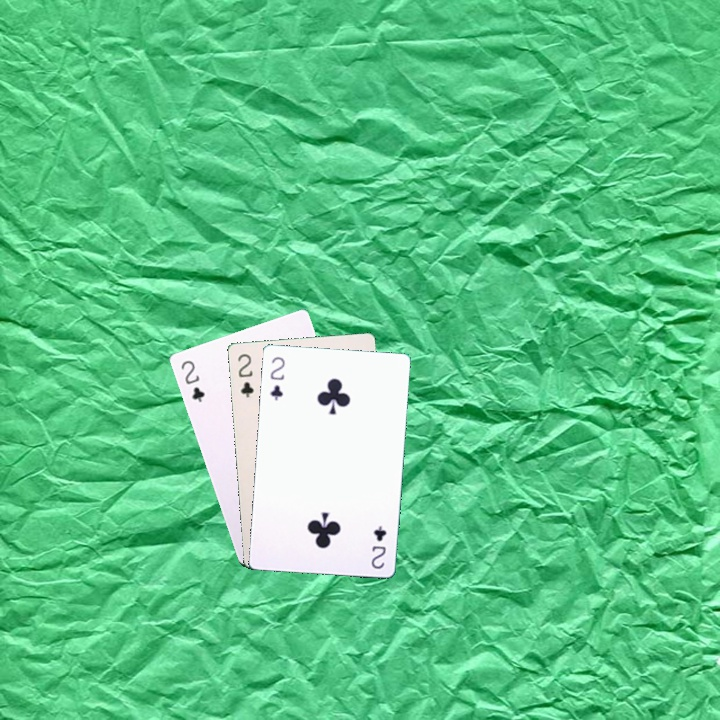2c: (177, 356, 207, 405), (234, 350, 256, 400), (367, 521, 389, 571), (266, 353, 287, 403)
